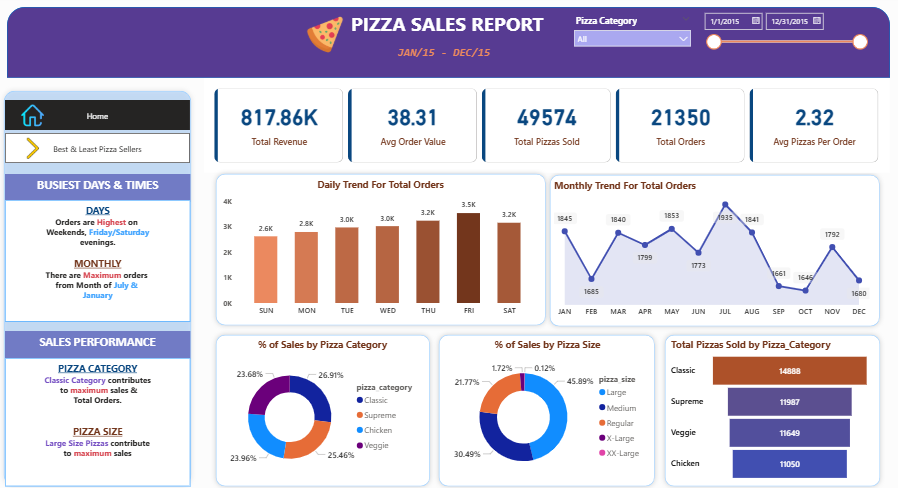

Layout of this report page (visuals, bound fields, positions):
{"tool":"powerbi","page":{"name":"Home","canvas":[1500,820],"ordinal":0},"visuals":[{"type":"shape","box":[910,284.3,565.7,268.6],"z":0},{"type":"cardVisual","fields":{"Data":["pizza_sales.Total Revenue","pizza_sales.Avg Order Value","pizza_sales.Total Pizzas Sold","pizza_sales.Total Orders","pizza_sales.Avg Pizzas Per Order"]},"box":[341.7,131.7,1143.3,158.3],"z":1000},{"type":"shape","box":[13.3,13.3,1471.7,118.3],"z":2000},{"type":"textbox","title":"Pizza Sales Report Title","box":[581.7,13.3,336.7,60],"z":3000},{"type":"textbox","title":"Title Date Text","box":[653.3,73.3,176.7,33.3],"z":4000},{"type":"image","box":[483.3,28.3,120,61.7],"z":5000},{"type":"shape","box":[352.9,282.9,565.7,268.6],"z":6000},{"type":"columnChart","title":"Daily Trend For Total Orders","fields":{"Category":["pizza_sales.Order Day"],"Y":["pizza_sales.Total Orders"]},"box":[368.3,298.3,535,238.3],"z":7000},{"type":"areaChart","title":"Monthly Trend For Total Orders","fields":{"Y":["pizza_sales.Total Orders"],"Category":["pizza_sales.Order Month"]},"box":[920.2,299.8,536.2,238.8],"z":8000},{"type":"shape","box":[352.9,551.4,372.9,268.6],"z":9000},{"type":"shape","box":[725.7,551.4,375.7,268.6],"z":10000},{"type":"shape","box":[1101.2,551.2,375,268.8],"z":11000},{"type":"donutChart","title":"% of Sales by Pizza Category","fields":{"Category":["pizza_sales.pizza_category"],"Y":["pizza_sales.Total Revenue"]},"box":[368.6,564.3,341.4,242.9],"z":12000},{"type":"donutChart","title":"% of Sales by Pizza Size","fields":{"Y":["pizza_sales.Total Revenue"],"Category":["pizza_sales.pizza_size"]},"box":[742.9,564.3,341.4,242.9],"z":13000},{"type":"shape","title":"Insights Blue Rectangle","box":[0,145,328.3,675],"z":14000},{"type":"textbox","title":"Busiest days & Time Text","box":[10,291.1,308.9,45.6],"z":15000},{"type":"funnel","title":"Total Pizzas Sold by Pizza_Category","fields":{"Category":["pizza_sales.pizza_category"],"Y":["pizza_sales.Total Pizzas Sold"]},"box":[1115.6,564.4,341.1,243.3],"z":16000},{"type":"textbox","box":[10,335.6,308.9,203.3],"z":17000},{"type":"textbox","title":"Busiest days & Time Text","box":[10,553.3,308.9,45.6],"z":18000},{"type":"textbox","box":[10,598.6,308.6,214.3],"z":19000},{"type":"slicer","fields":{"Values":["pizza_sales.pizza_category"]},"box":[948.3,20,215,103.3],"z":20000},{"type":"slicer","fields":{"Values":["pizza_sales.order_date"]},"box":[1163.3,13.3,293.3,110],"z":21000},{"type":"pageNavigator","box":[10,168.4,308.4,50],"z":21001},{"type":"pageNavigator","box":[10,223.7,308.9,50],"z":21002},{"type":"image","box":[24.7,174.7,61.6,37.9],"z":21003},{"type":"image","box":[38,218.5,35.5,61],"z":21004}]}

Visuals, with their boxes in screenshot pixels (x1, y1, x2, y2), scaled from the page's 1500x820 canvas onto the 898x488 screenshot:
shape: bbox(545, 169, 883, 329)
cardVisual - pizza_sales.Total Revenue x pizza_sales.Avg Order Value: bbox(205, 78, 889, 173)
shape: bbox(8, 8, 889, 78)
"Pizza Sales Report Title" textbox: bbox(348, 8, 550, 44)
"Title Date Text" textbox: bbox(391, 44, 497, 63)
image: bbox(289, 17, 361, 54)
shape: bbox(211, 168, 550, 328)
"Daily Trend For Total Orders" columnChart: bbox(220, 178, 541, 319)
"Monthly Trend For Total Orders" areaChart: bbox(551, 178, 872, 321)
shape: bbox(211, 328, 435, 487)
shape: bbox(434, 328, 659, 487)
shape: bbox(659, 328, 884, 487)
"% of Sales by Pizza Category" donutChart: bbox(221, 336, 425, 480)
"% of Sales by Pizza Size" donutChart: bbox(445, 336, 649, 480)
"Insights Blue Rectangle" shape: bbox(0, 86, 197, 487)
"Busiest days & Time Text" textbox: bbox(6, 173, 191, 200)
"Total Pizzas Sold by Pizza_Category" funnel: bbox(668, 336, 872, 481)
textbox: bbox(6, 200, 191, 321)
"Busiest days & Time Text" textbox: bbox(6, 329, 191, 356)
textbox: bbox(6, 356, 191, 484)
slicer - pizza_sales.pizza_category: bbox(568, 12, 696, 73)
slicer - pizza_sales.order_date: bbox(696, 8, 872, 73)
pageNavigator: bbox(6, 100, 191, 130)
pageNavigator: bbox(6, 133, 191, 163)
image: bbox(15, 104, 52, 127)
image: bbox(23, 130, 44, 166)
